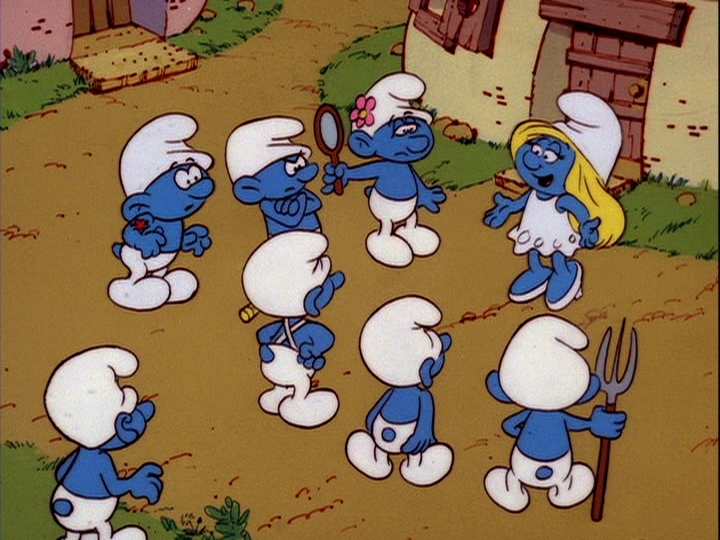smurf: (485, 89, 626, 311), (479, 305, 628, 514), (40, 342, 168, 540), (326, 71, 451, 269), (232, 233, 348, 429), (105, 110, 215, 313), (345, 290, 454, 493), (220, 111, 330, 233)
